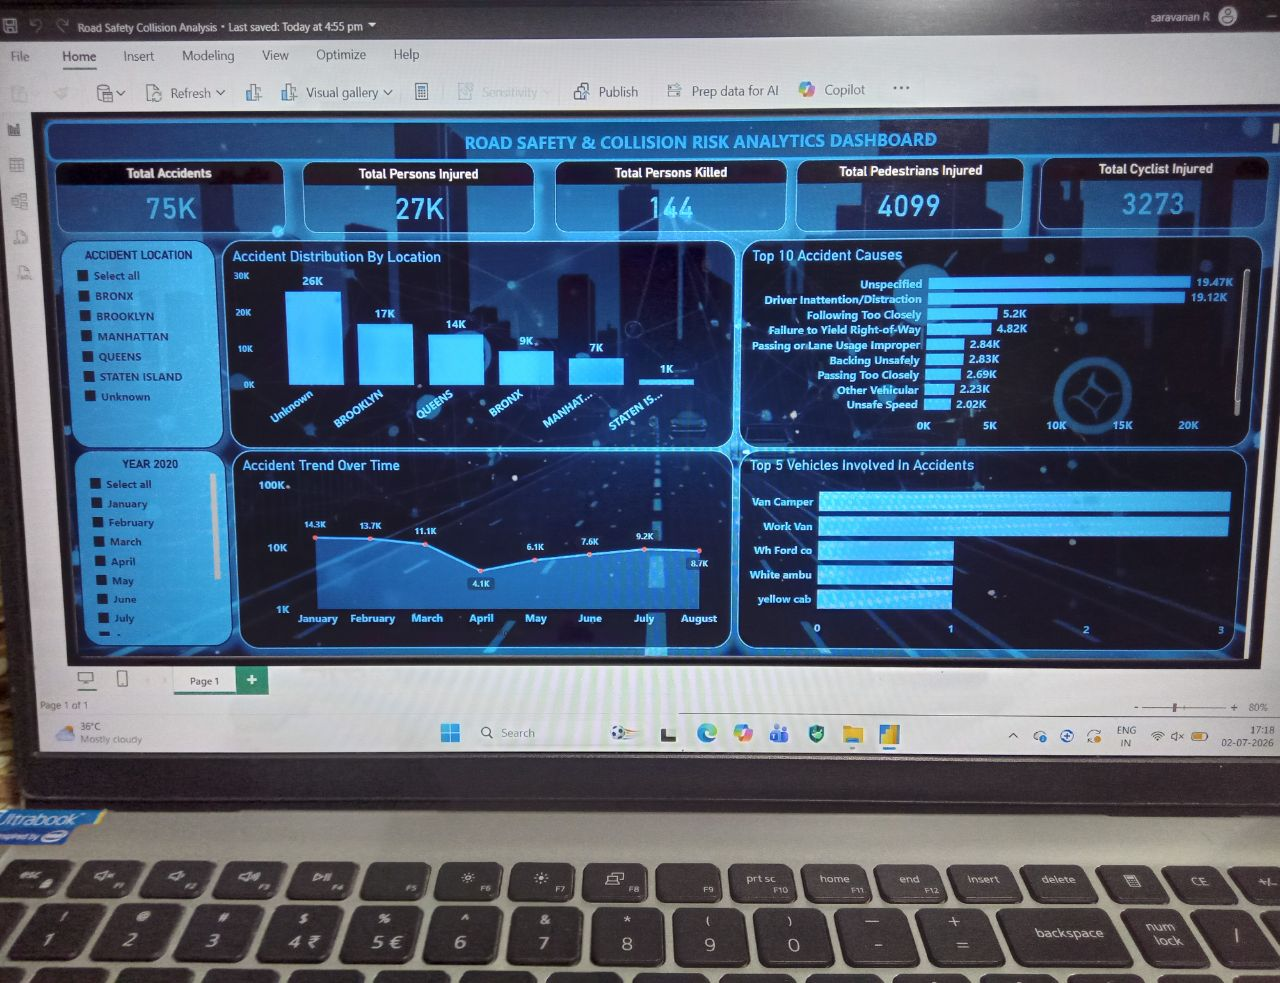

The page's visual inventory and layout, read from the dashboard file:
{"tool":"powerbi","page":{"name":"Page 1","canvas":[1280,720],"ordinal":0},"visuals":[{"type":"textbox","box":[0,0,1175.9,57.7],"z":0},{"type":"card","title":"Total Persons Injured","fields":{"Values":["NYC Accidents 2020.Total Persons Injured"]},"box":[235.2,57.7,235.2,99.6],"z":1000},{"type":"card","title":"Total Accidents","fields":{"Values":["NYC Accidents 2020.Total Accidents"]},"box":[0,59.2,235.2,99.6],"z":2000},{"type":"card","title":"Total Persons Killed","fields":{"Values":["NYC Accidents 2020.Total Persons Killed"]},"box":[470.3,57.7,235.2,99.6],"z":3000},{"type":"card","title":"Total Pedestrians Injured","fields":{"Values":["NYC Accidents 2020.Pedestrians Injured"]},"box":[705.5,57.7,235.2,99.6],"z":4000},{"type":"card","title":"Total Cyclist Injured","fields":{"Values":["NYC Accidents 2020.Cyclists Injured"]},"box":[940.1,59.7,234.7,99.6],"z":5000},{"type":"slicer","title":"YEAR 2020","fields":{"Values":["NYC Accidents 2020.CRASH DATE.Variation.Date Hierarchy.Month"]},"box":[0,308.8,235.2,411.2],"z":6000},{"type":"slicer","title":"ACCIDENT LOCATION","fields":{"Values":["NYC Accidents 2020.BOROUGH"]},"box":[0,158.7,235.2,150],"z":7000},{"type":"clusteredColumnChart","title":"Accident Distribution By Location","fields":{"Category":["NYC Accidents 2020.BOROUGH"],"Y":["CountNonNull(NYC Accidents 2020.COLLISION_ID)"]},"box":[235.3,159.3,470.5,277.5],"z":8000},{"type":"clusteredBarChart","title":"Top 10 Accident Causes","fields":{"Category":["NYC Accidents 2020.CONTRIBUTING FACTOR VEHICLE 1"],"Y":["CountNonNull(NYC Accidents 2020.COLLISION_ID)"]},"box":[705.8,160.5,469.3,276.3],"z":9000},{"type":"lineChart","title":"Accident Trend Over Time","fields":{"Category":["NYC Accidents 2020.CRASH DATE.Variation.Date Hierarchy.Month"],"Y":["CountNonNull(NYC Accidents 2020.COLLISION_ID)"]},"box":[235.3,445.2,470.5,265.4],"z":10000},{"type":"clusteredBarChart","title":"Top 5 Vehicles Involved In Accidents","fields":{"Category":["NYC Accidents 2020.VEHICLE TYPE CODE 1"],"Y":["CountNonNull(NYC Accidents 2020.COLLISION_ID)"]},"box":[706,445,469,265],"z":11000}]}

Visuals, with their boxes on the page's 1280x720 design canvas (x1, y1, x2, y2). These are canvas units, not pixel positions in the 1280x983 screenshot, which may show the page scaled, cropped or inside an application window:
textbox: crop(0, 0, 1176, 58)
"Total Persons Injured" card: crop(235, 58, 470, 157)
"Total Accidents" card: crop(0, 59, 235, 159)
"Total Persons Killed" card: crop(470, 58, 706, 157)
"Total Pedestrians Injured" card: crop(706, 58, 941, 157)
"Total Cyclist Injured" card: crop(940, 60, 1175, 159)
"YEAR 2020" slicer: crop(0, 309, 235, 720)
"ACCIDENT LOCATION" slicer: crop(0, 159, 235, 309)
"Accident Distribution By Location" clusteredColumnChart: crop(235, 159, 706, 437)
"Top 10 Accident Causes" clusteredBarChart: crop(706, 160, 1175, 437)
"Accident Trend Over Time" lineChart: crop(235, 445, 706, 711)
"Top 5 Vehicles Involved In Accidents" clusteredBarChart: crop(706, 445, 1175, 710)
